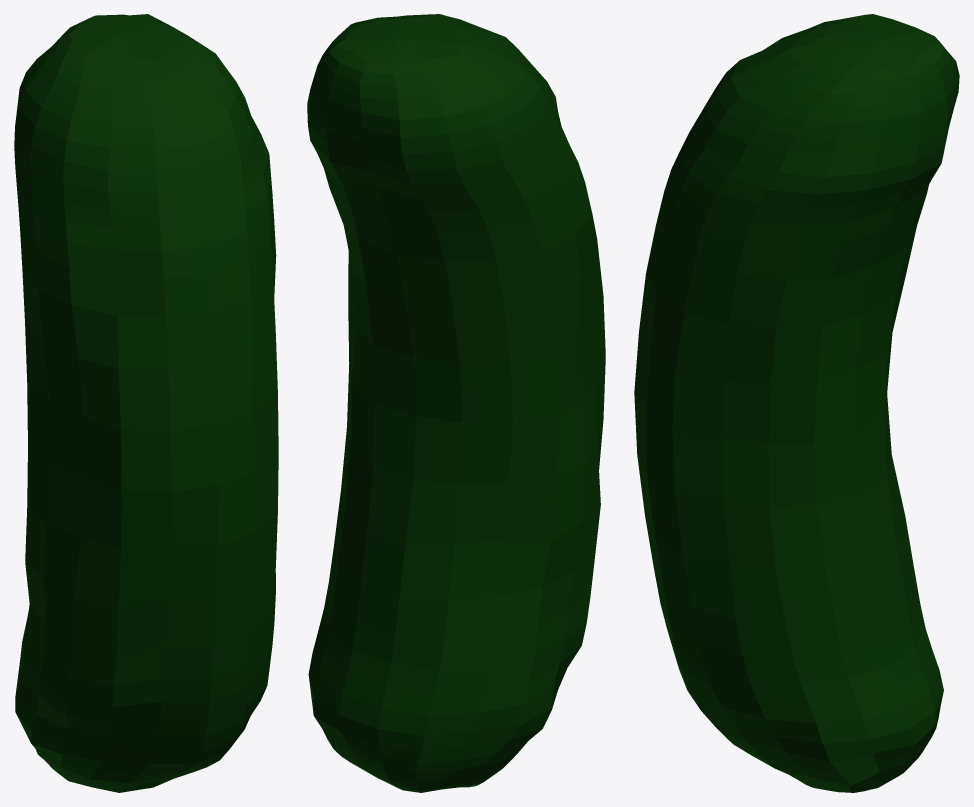
File: Cucumber.fbx
3 views of the same model, side by side, from view 1: azimuth 30°, elevation 25°; view 2: azimuth 150°, elevation 25°; view 3: azimuth 270°, elevation 25° (orthographic). The views are drawn at different scales.
Parts seen in each view (by area): view 1: Цилиндр.005, Цилиндр.004, Цилиндр.003, Цилиндр.006, Цилиндр.001, Цилиндр.007, Цилиндр.002, Цилиндр.008, Цилиндр.009; view 2: Цилиндр.005, Цилиндр.006, Цилиндр.007, Цилиндр.004, Цилиндр.001, Цилиндр.003, Цилиндр.002, Цилиндр.008, Цилиндр.009; view 3: Цилиндр.005, Цилиндр.006, Цилиндр.004, Цилиндр.007, Цилиндр.003, Цилиндр.001, Цилиндр.002, Цилиндр.008, Цилиндр.009.
Boxes of the visible parts, box(x1,y1,x2,y2) form: Цилиндр.005: box(27, 385, 278, 550); Цилиндр.004: box(22, 256, 277, 430); Цилиндр.003: box(15, 154, 276, 316); Цилиндр.006: box(25, 506, 277, 653); Цилиндр.001: box(18, 14, 245, 151); Цилиндр.007: box(15, 594, 275, 736); Цилиндр.002: box(14, 89, 269, 213); Цилиндр.008: box(15, 696, 259, 774); Цилиндр.009: box(35, 749, 218, 792); Цилиндр.005: box(347, 296, 605, 484); Цилиндр.006: box(334, 421, 603, 601); Цилиндр.007: box(312, 545, 594, 715); Цилиндр.004: box(343, 214, 603, 364); Цилиндр.001: box(310, 14, 539, 137); Цилиндр.003: box(310, 128, 592, 261); Цилиндр.002: box(307, 50, 563, 185); Цилиндр.008: box(308, 653, 566, 763); Цилиндр.009: box(322, 729, 526, 792); Цилиндр.005: box(634, 332, 892, 506); Цилиндр.006: box(637, 455, 913, 622); Цилиндр.004: box(639, 225, 916, 384); Цилиндр.007: box(654, 568, 939, 723); Цилиндр.003: box(656, 120, 941, 279); Цилиндр.001: box(716, 14, 959, 139); Цилиндр.002: box(687, 74, 959, 194); Цилиндр.008: box(680, 671, 943, 775); Цилиндр.009: box(734, 719, 938, 792).
Bounding box in the file's own units: 218 × 655 × 262.
